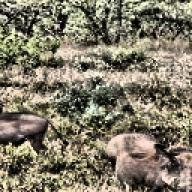boar: (0, 110, 68, 162)
